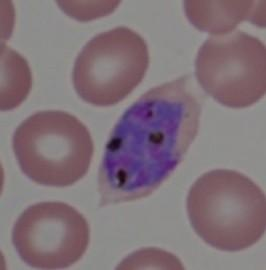Infected: (62, 61, 168, 193)
Uninfected: (0, 18, 80, 99), (172, 82, 254, 160), (116, 162, 192, 243), (0, 161, 72, 241), (176, 0, 254, 69)
